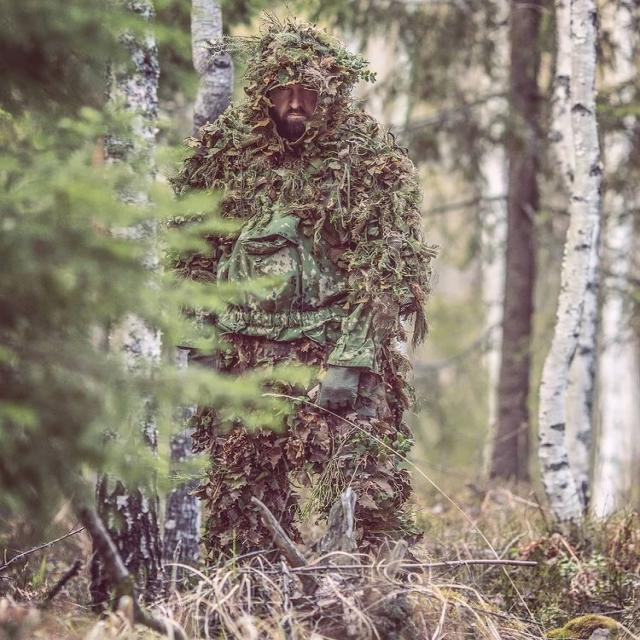Human: (164, 26, 422, 623)
